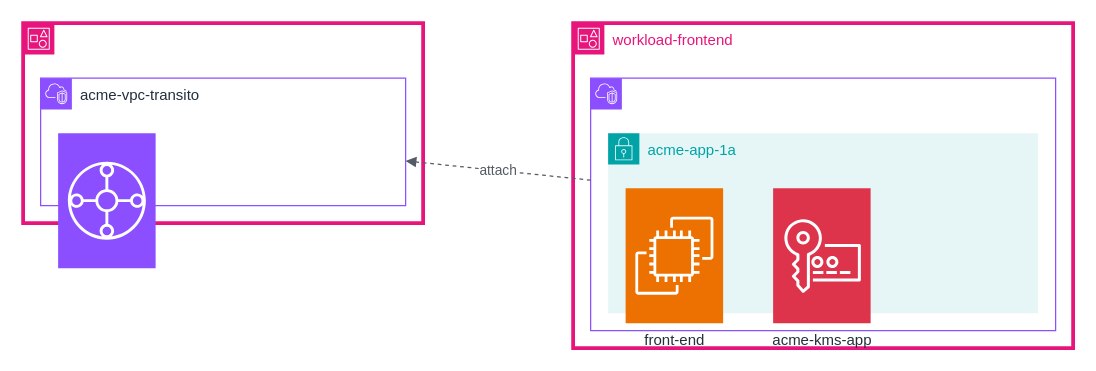
Image size: 1096x371. Some labels were removed from this diagram. Here are the shapes that lost their labels. From the top down, the box of each, then its label:
(21, 21, 424, 224): rede-compartilhada
(57, 132, 156, 268): acme-tgw-hub
(589, 77, 1056, 331): acme-vpc-workload
